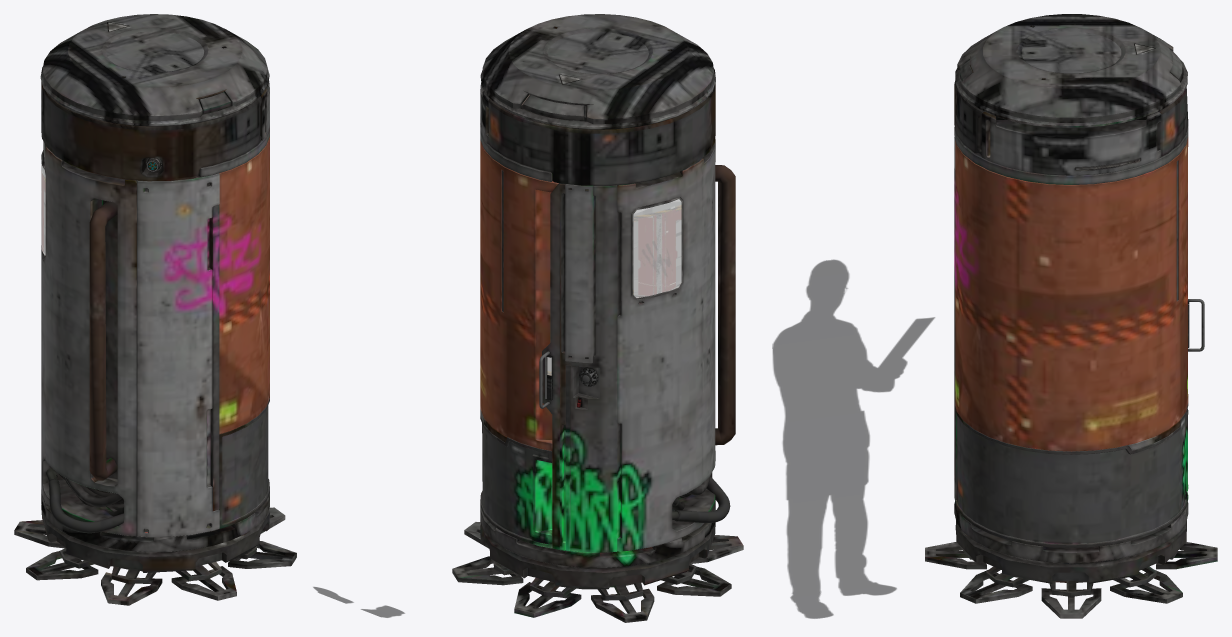
File: cryo-chamber.glb
3 views of the same model, side by side, from view 1: azimuth 30°, elevation 25°; view 2: azimuth 150°, elevation 25°; view 3: azimuth 270°, elevation 25° (orthographic). The views are drawn at different scales.
Parts seen in each view (by area): view 1: crio_tank.004_low, crio_tank.009_low, crio_tank_low, crio_tank.018_low, crio_tank.001_low, crio_tank.020_low, crio_tank.035_low, crio_tank.021_low, crio_tank.003_low, crio_tank.006_low, crio_tank.010_low, crio_tank.028_low (+2 smaller); view 2: crio_tank.004_low, crio_tank_low, crio_tank.016_low, crio_tank.018_low, crio_tank.001_low, crio_tank.021_low, crio_tank.020_low, crio_tank.005_low, crio_tank.035_low, crio_tank.003_low, crio_tank.025_low, crio_tank.006_low (+7 smaller); view 3: crio_tank.018_low, surgeon.001, crio_tank.021_low, crio_tank_low, crio_tank.017_low, crio_tank.020_low, crio_tank.003_low, crio_tank.006_low, crio_tank.001_low, crio_tank.008_low, crio_tank.002_low, crio_tank.010_low.
Boxes of the visible parts, x1=… form: crio_tank.004_low: x1=41, y1=141, x2=136, y2=536; crio_tank.009_low: x1=110, y1=173, x2=219, y2=537; crio_tank_low: x1=40, y1=14, x2=269, y2=126; crio_tank.018_low: x1=219, y1=137, x2=269, y2=434; crio_tank.001_low: x1=41, y1=81, x2=261, y2=181; crio_tank.020_low: x1=14, y1=507, x2=296, y2=605; crio_tank.035_low: x1=89, y1=201, x2=117, y2=480; crio_tank.021_low: x1=219, y1=398, x2=269, y2=528; crio_tank.003_low: x1=41, y1=505, x2=269, y2=572; crio_tank.006_low: x1=41, y1=490, x2=269, y2=552; crio_tank.010_low: x1=209, y1=205, x2=219, y2=511; crio_tank.028_low: x1=46, y1=466, x2=123, y2=533; crio_tank.004_low: x1=617, y1=139, x2=715, y2=551; crio_tank_low: x1=480, y1=14, x2=715, y2=129; crio_tank.016_low: x1=542, y1=183, x2=679, y2=552; crio_tank.018_low: x1=480, y1=140, x2=558, y2=450; crio_tank.001_low: x1=488, y1=83, x2=715, y2=185; crio_tank.021_low: x1=480, y1=416, x2=552, y2=548; crio_tank.020_low: x1=452, y1=522, x2=743, y2=622; crio_tank.005_low: x1=565, y1=184, x2=595, y2=362; crio_tank.035_low: x1=715, y1=165, x2=735, y2=445; crio_tank.003_low: x1=480, y1=522, x2=715, y2=589; crio_tank.025_low: x1=633, y1=199, x2=681, y2=297; crio_tank.006_low: x1=480, y1=503, x2=715, y2=567; crio_tank.018_low: x1=955, y1=137, x2=1188, y2=451; surgeon.001: x1=772, y1=259, x2=934, y2=618; crio_tank.021_low: x1=955, y1=403, x2=1188, y2=547; crio_tank_low: x1=955, y1=14, x2=1187, y2=128; crio_tank.017_low: x1=981, y1=112, x2=1161, y2=175; crio_tank.020_low: x1=925, y1=542, x2=1217, y2=618; crio_tank.003_low: x1=955, y1=520, x2=1186, y2=583; crio_tank.006_low: x1=954, y1=501, x2=1188, y2=563; crio_tank.001_low: x1=954, y1=81, x2=1188, y2=156; crio_tank.008_low: x1=954, y1=126, x2=1188, y2=184; crio_tank.002_low: x1=968, y1=551, x2=1177, y2=596; crio_tank.010_low: x1=954, y1=168, x2=955, y2=480.
Size of the model in its own units: 1.27 by 2.4 by 1.91.
4 materials, 4 textured.
